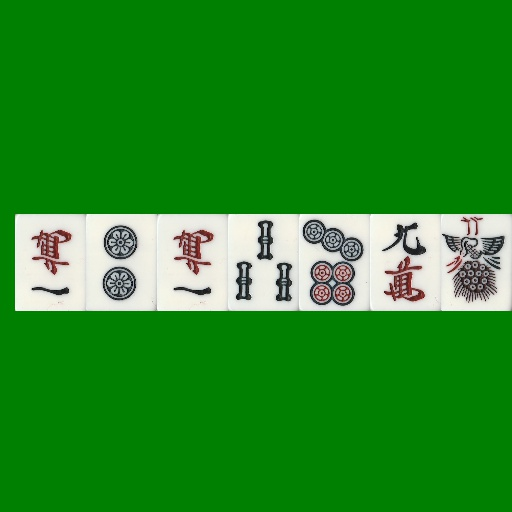1m: (15, 214, 86, 311), (157, 214, 228, 311)
1s: (441, 214, 512, 311)
2p: (86, 214, 157, 311)
3s: (228, 214, 299, 311)
7p: (299, 214, 370, 311)
9m: (370, 214, 441, 311)
